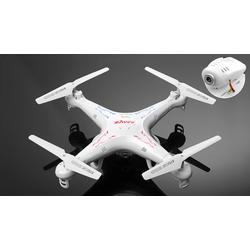drone: (28, 65, 222, 190)
